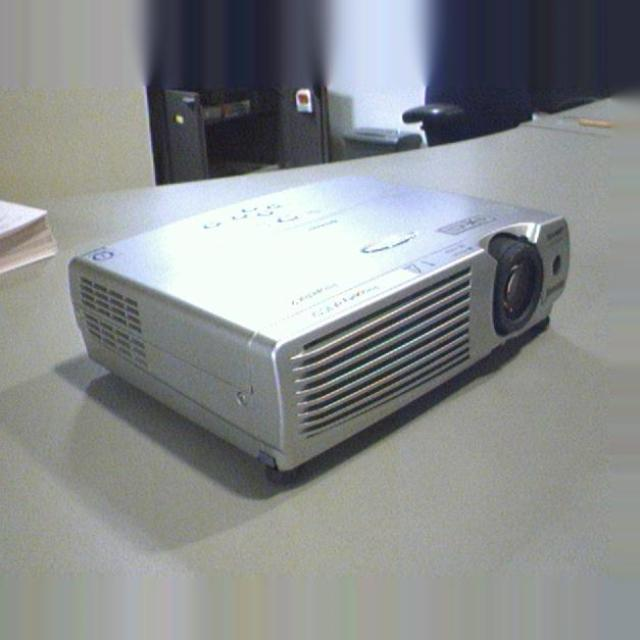Projector: (69, 176, 571, 477)
